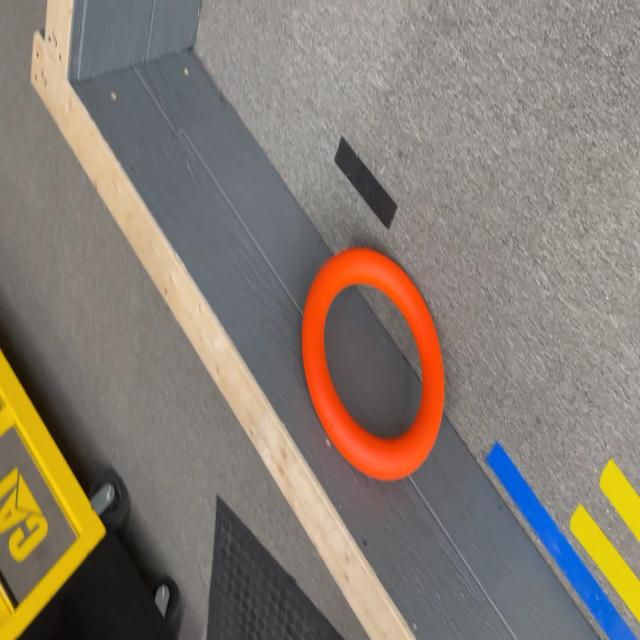note: (302, 248, 444, 482)
